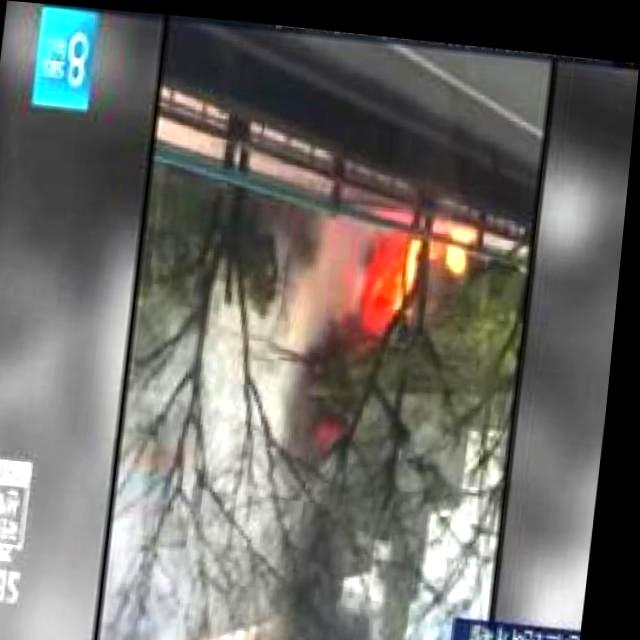fire: (356, 210, 424, 326), (438, 204, 478, 264)
